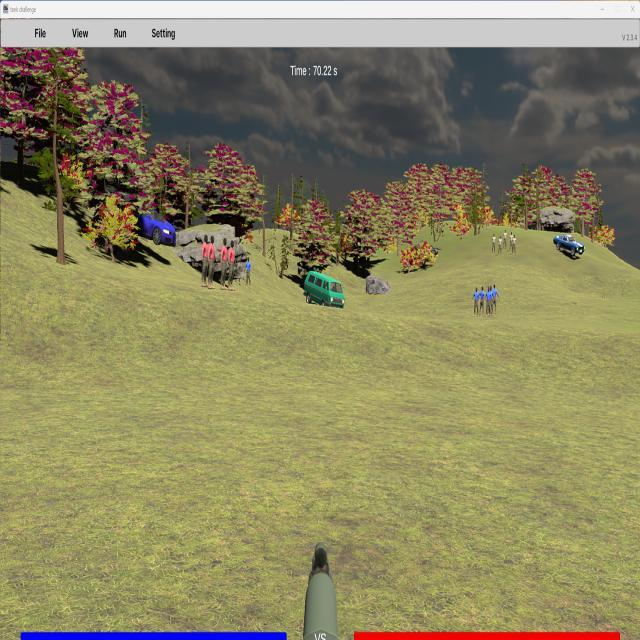Human: (220, 236, 229, 289), (228, 239, 237, 289), (201, 235, 209, 288), (208, 234, 215, 289), (244, 258, 252, 287)
car: (304, 271, 344, 311), (553, 233, 585, 257)
